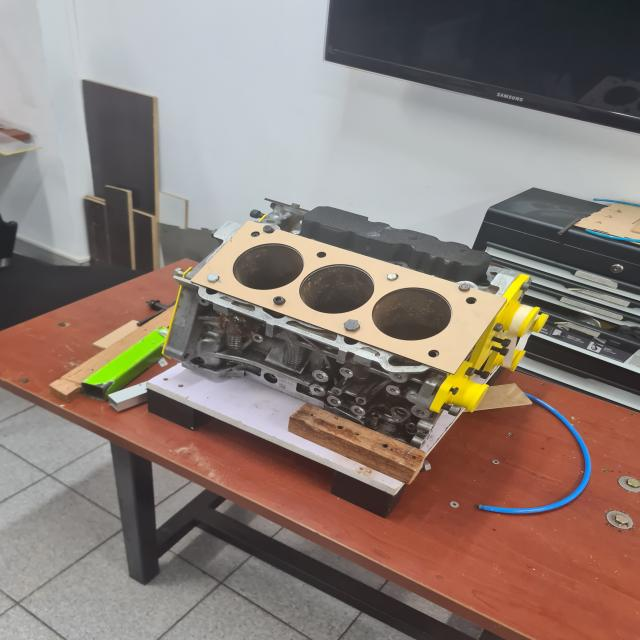vista1: (190, 220, 507, 374)
